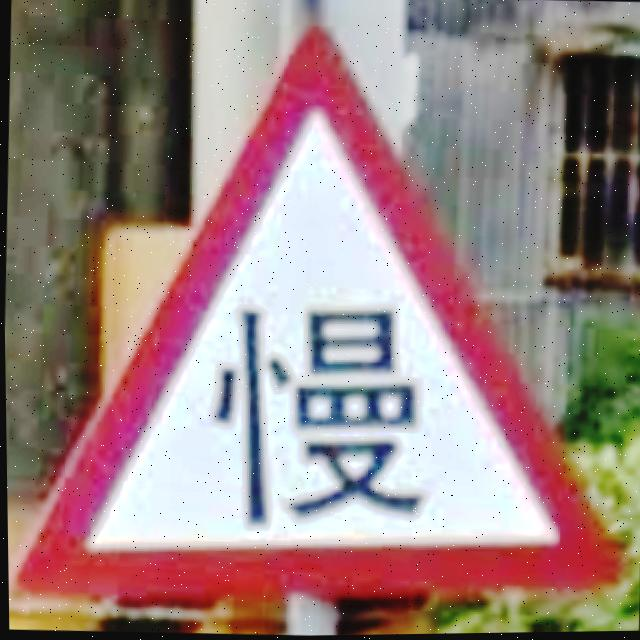slow: (8, 27, 627, 595)
